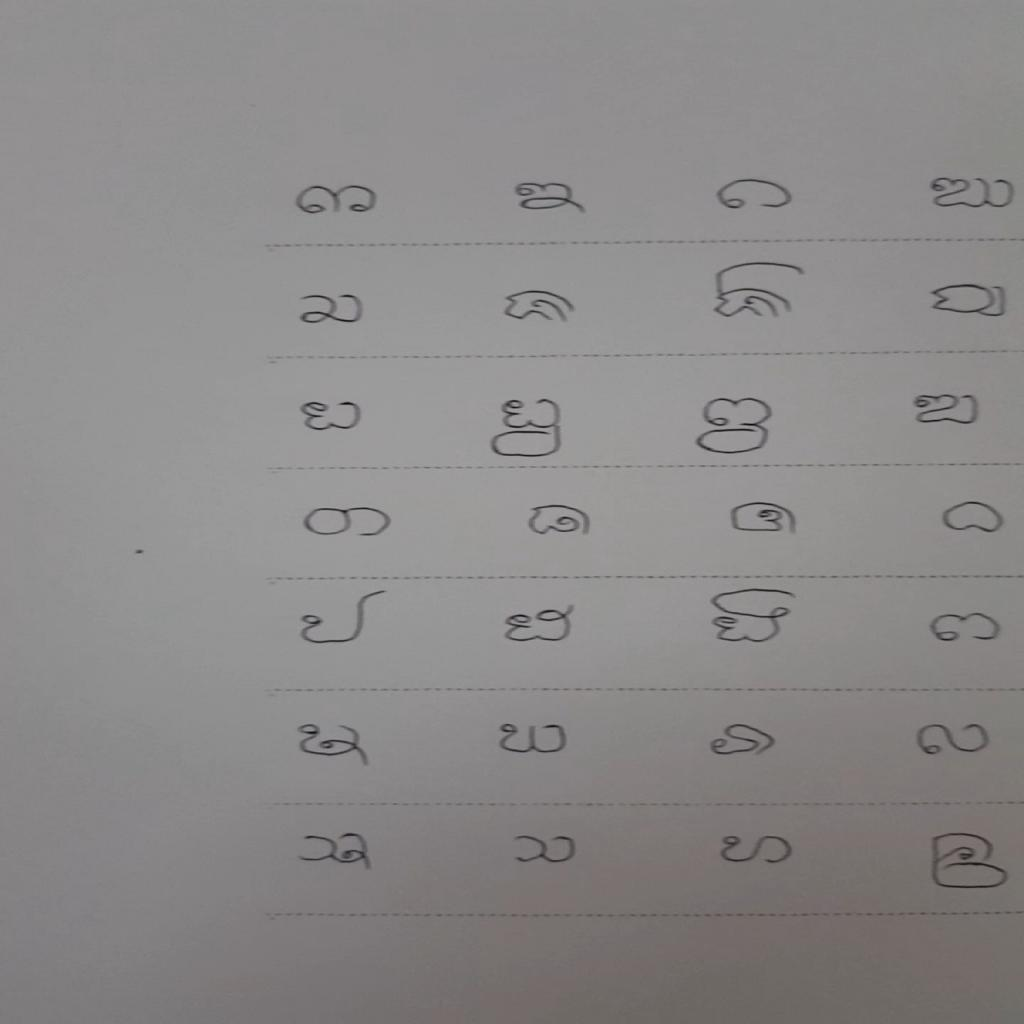LN001: (291, 182, 382, 220)
LN002: (506, 179, 590, 213)
LN003: (716, 178, 797, 212)
LN004: (925, 175, 1021, 213)
LN007: (295, 292, 367, 328)
LN008: (501, 288, 580, 327)
LN009: (708, 261, 810, 323)
LN010: (927, 281, 1013, 321)
LN013: (297, 398, 365, 436)
LN014: (488, 397, 567, 461)
LN015: (693, 396, 776, 458)
LN016: (908, 391, 985, 429)
LN019: (300, 505, 397, 541)
LN020: (524, 504, 595, 540)
LN021: (726, 500, 804, 538)
LN022: (939, 500, 1010, 537)
LN025: (297, 588, 392, 648)
LN026: (500, 603, 578, 647)
LN027: (708, 588, 801, 646)
LN028: (926, 612, 1005, 646)
LN031: (295, 722, 376, 768)
LN032: (494, 722, 571, 758)
LN033: (706, 722, 780, 760)
LN034: (910, 722, 994, 760)
LN037: (293, 830, 378, 874)
LN038: (509, 832, 583, 868)
LN039: (717, 834, 797, 869)
LN040: (927, 831, 1013, 893)
